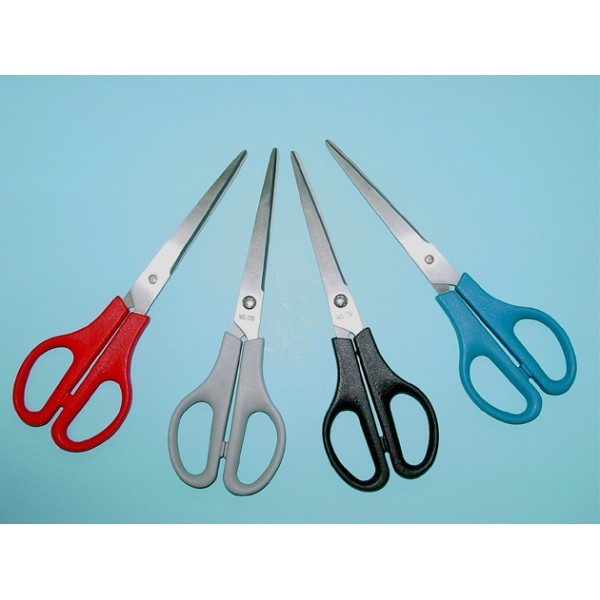scissors: (11, 146, 255, 467), (320, 135, 584, 429), (282, 149, 450, 501), (165, 145, 296, 503)
